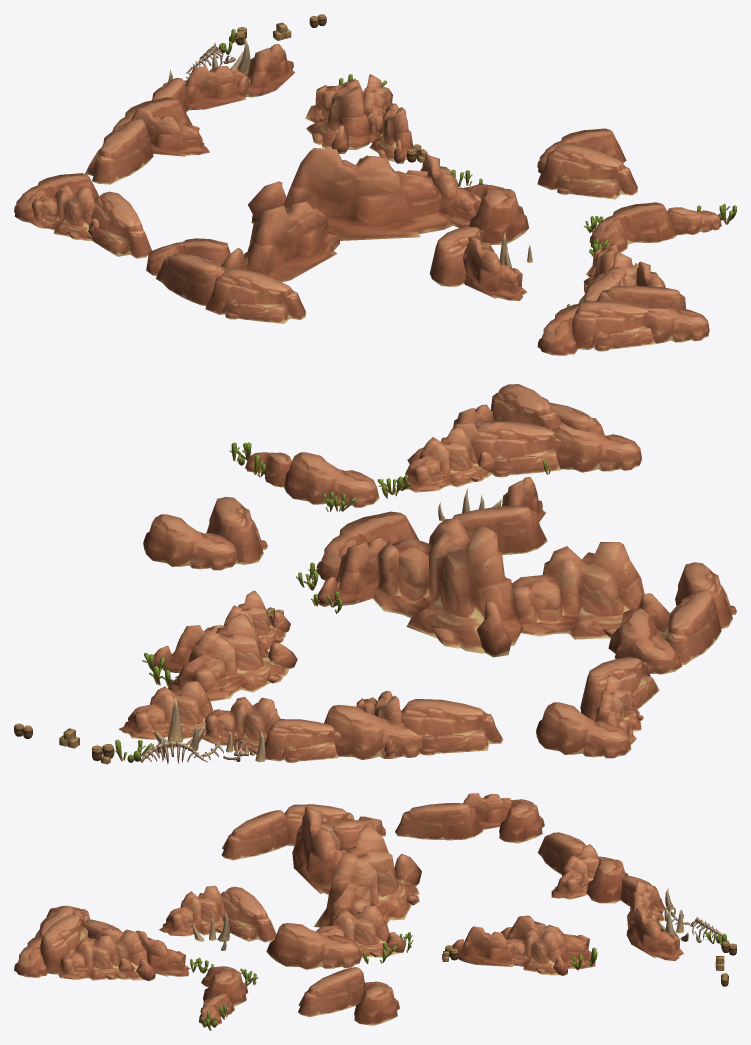
The model's file is rock_red04.fbx.
3 views of the same model, one above another, from view 1: azimuth 30°, elevation 25°; view 2: azimuth 150°, elevation 25°; view 3: azimuth 270°, elevation 25° (orthographic). The views are drawn at different scales.
Visible parts, largest first — view 1: rock_red04; view 2: rock_red04; view 3: rock_red04.
Part boxes in pixels (x1=…): rock_red04: x1=14, y1=14, x2=736, y2=355; rock_red04: x1=14, y1=384, x2=736, y2=764; rock_red04: x1=14, y1=793, x2=736, y2=1030.
Size of the model in its own units: 8630 by 1351 by 11776.
1 material, 1 textured.
